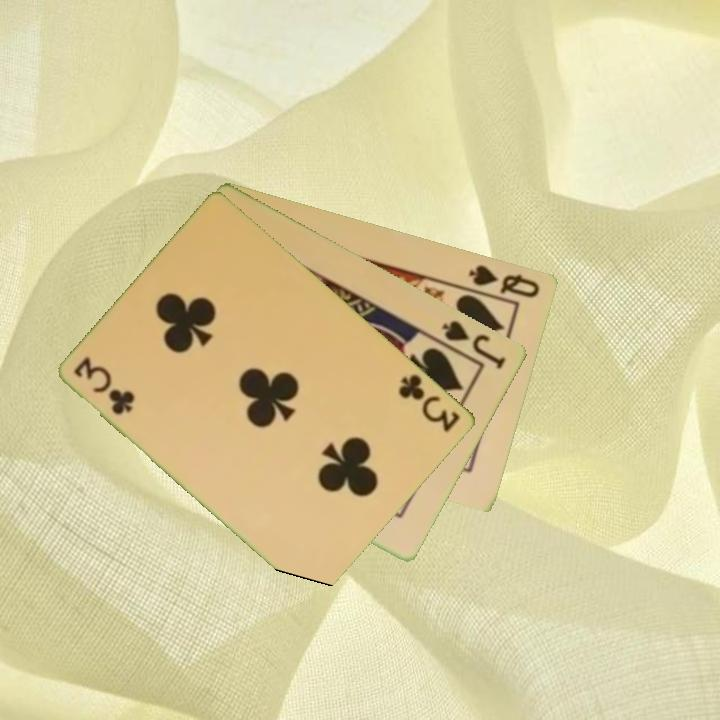3c: (395, 370, 464, 436), (70, 353, 138, 418)
Js: (438, 316, 509, 372)
Qs: (465, 261, 543, 301)
